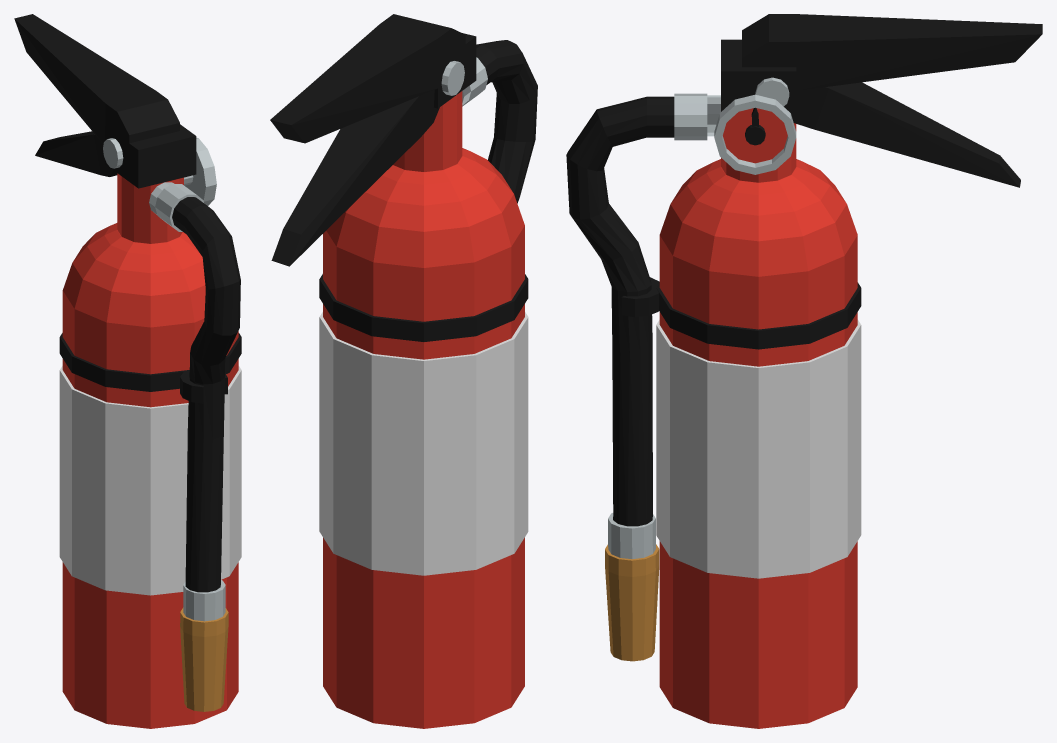
The model's file is Fire Extinguisher.fbx.
3 renders of one model, left to right at view 1: azimuth 30°, elevation 25°; view 2: azimuth 150°, elevation 25°; view 3: azimuth 270°, elevation 25°, orthographic. The views are drawn at different scales.
Visible parts, largest first — view 1: model15:Mesh; view 2: model15:Mesh; view 3: model15:Mesh.
Boxes of the visible parts, x1,y1,x2,y2 form: model15:Mesh: (14, 14, 241, 728); model15:Mesh: (270, 14, 537, 728); model15:Mesh: (566, 14, 1042, 728).
Size of the model in its own units: 2.49 by 8.8 by 5.78.
